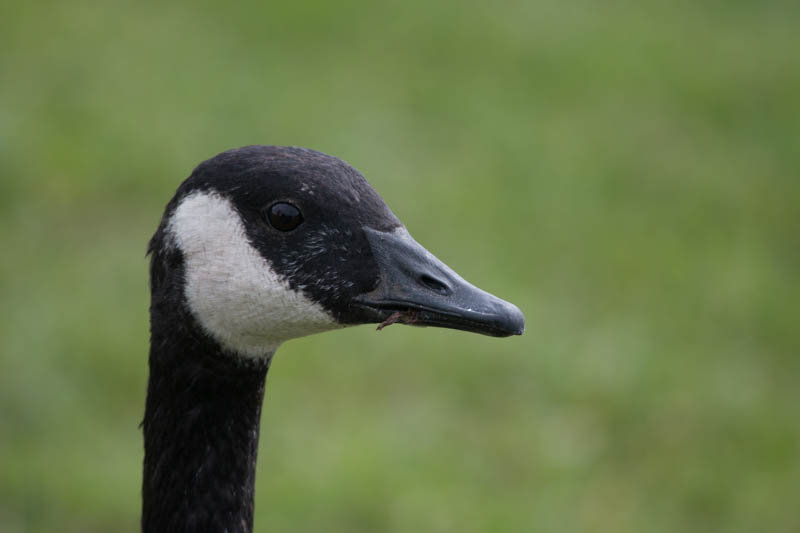goose-head: (149, 146, 525, 365)
